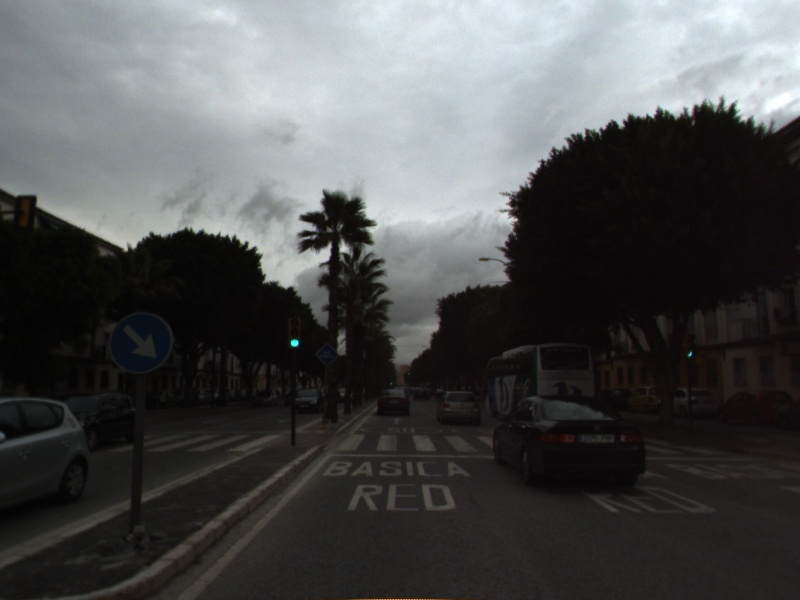STRAIGHT: (388, 415, 405, 426)
